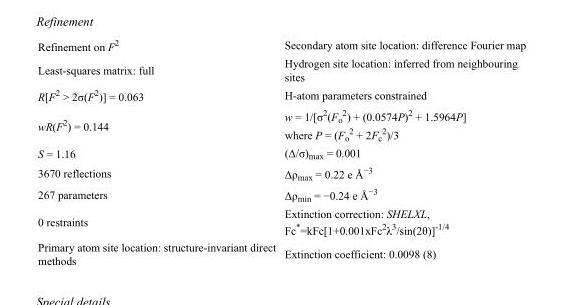table: (37, 37, 525, 266)
table column: (279, 37, 525, 266), (37, 37, 279, 266)
table row: (37, 104, 525, 144), (37, 204, 525, 238), (37, 54, 525, 84), (37, 238, 525, 266), (37, 162, 525, 183), (37, 183, 525, 204), (37, 84, 525, 104), (37, 144, 525, 162), (37, 37, 525, 54)
